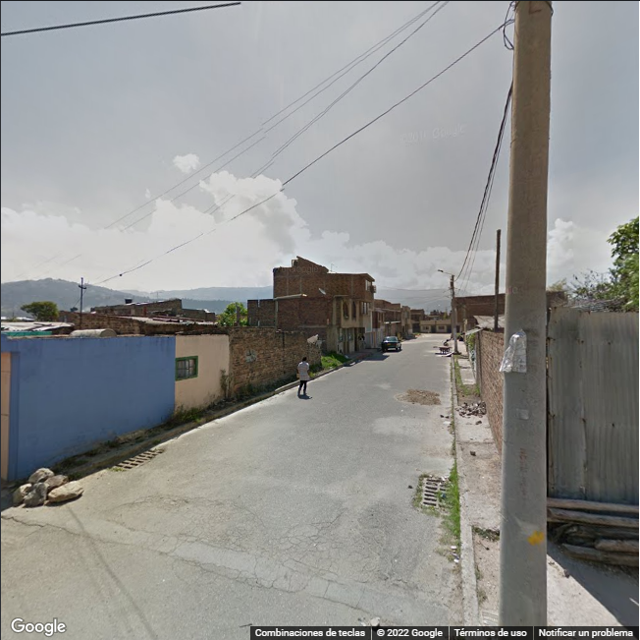D10: (196, 569, 302, 594)
D20: (278, 508, 342, 577)
D40: (159, 491, 188, 510)
